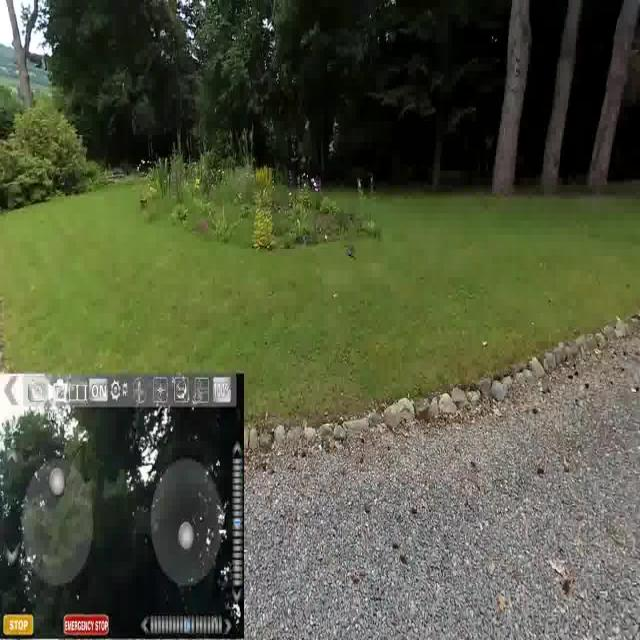drones: (342, 242, 357, 266)
